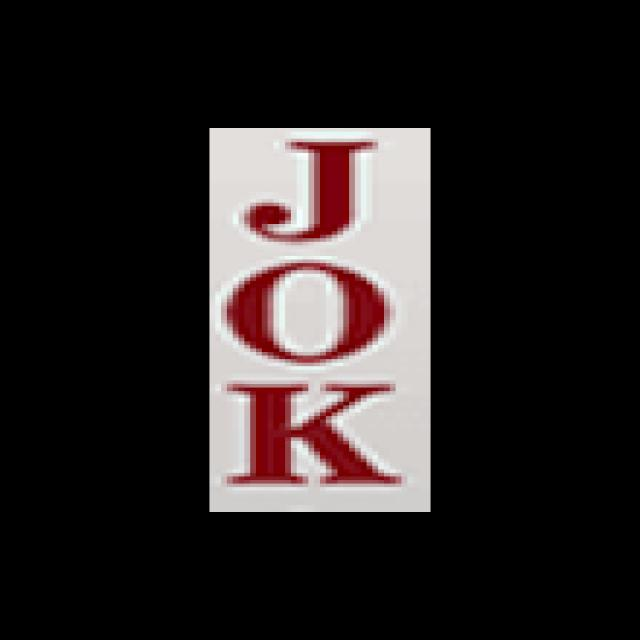RED JOKER: (209, 125, 432, 506)
